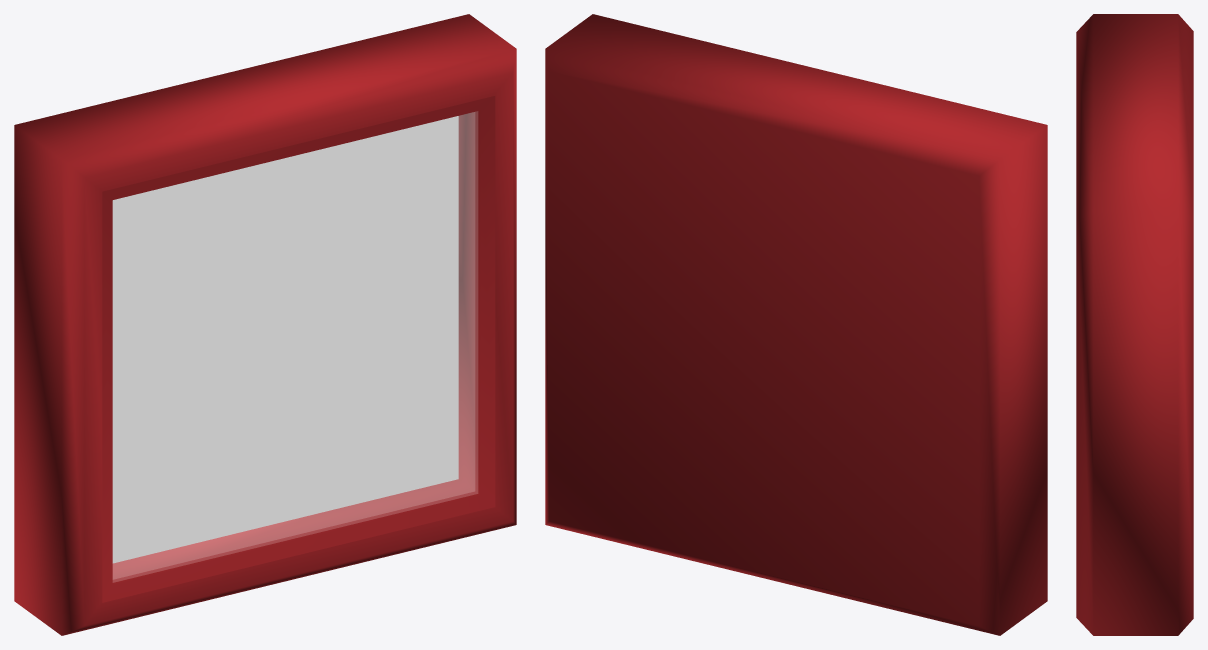
File: Frame_test_red.fbx
3 views of the same model, side by side, from view 1: azimuth 30°, elevation 25°; view 2: azimuth 150°, elevation 25°; view 3: azimuth 270°, elevation 25° (orthographic). The views are drawn at different scales.
Parts seen in each view (by area): view 1: Frame_glass, Frame, Frame.001; view 2: Frame; view 3: Frame.
Part boxes in pixels (box(x1,y1,x2,y2)): Frame_glass: box(113, 112, 477, 581); Frame: box(14, 14, 516, 635); Frame.001: box(112, 116, 458, 563); Frame: box(545, 14, 1047, 635); Frame: box(1076, 14, 1193, 635).
Bounding box in the file's own units: 40 × 40 × 10.
